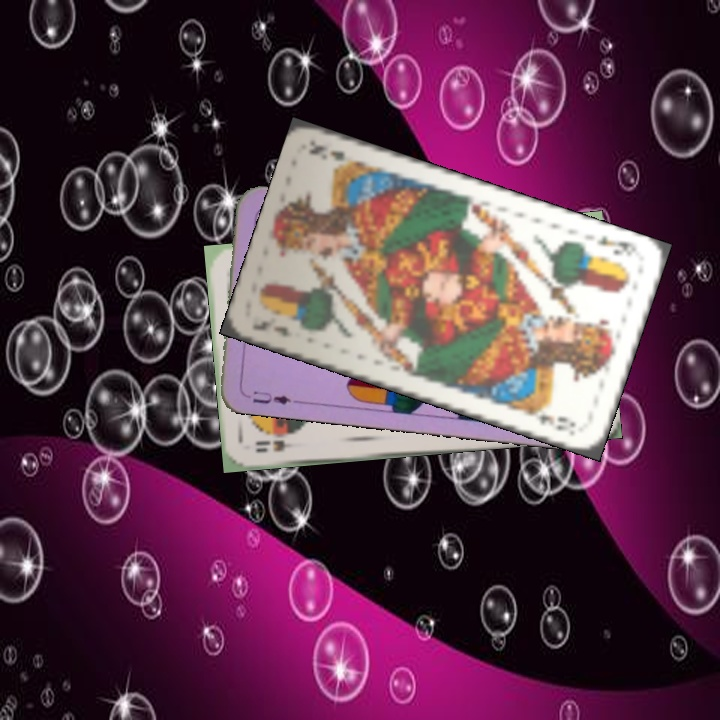EK: (592, 232, 640, 260), (248, 317, 294, 340)
EU: (240, 387, 299, 408)
SO: (251, 436, 305, 455)
